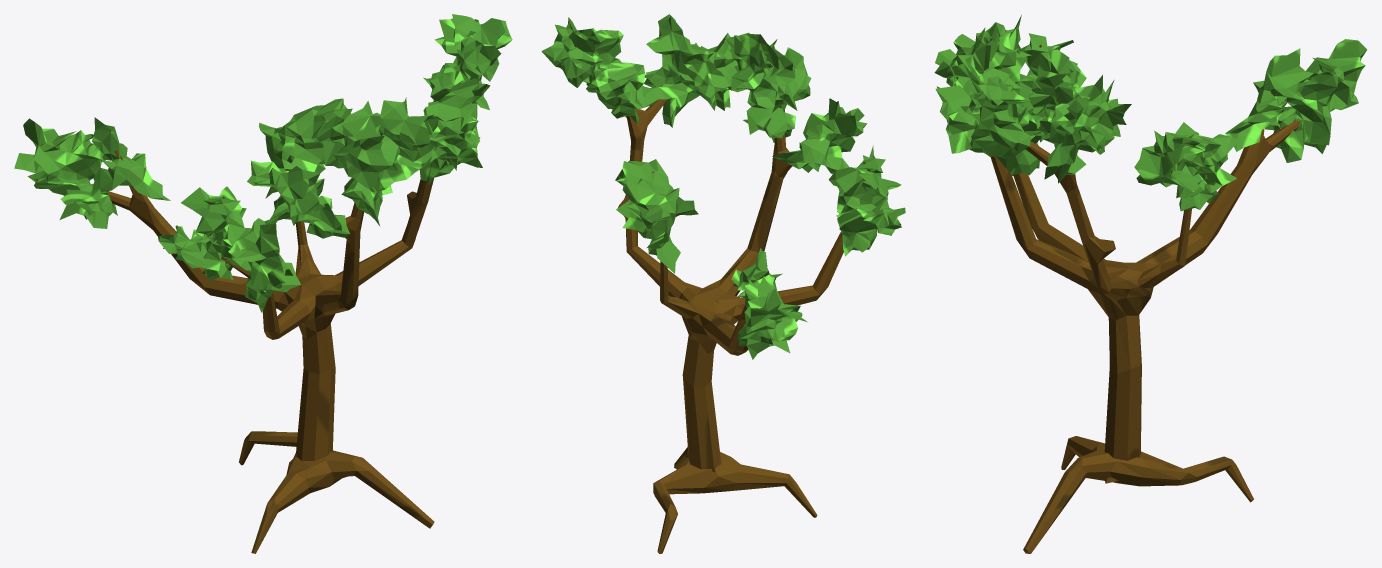
The model's file is arbol2LowRes .fbx.
3 views of the same model, side by side, from view 1: azimuth 30°, elevation 25°; view 2: azimuth 150°, elevation 25°; view 3: azimuth 270°, elevation 25° (orthographic). The views are drawn at different scales.
Visible parts, largest first — view 1: Vert.007; view 2: Vert.007; view 3: Vert.007.
Boxes of the visible parts, x1,y1,x2,y2 form: Vert.007: (14, 14, 512, 553); Vert.007: (541, 14, 905, 553); Vert.007: (934, 15, 1367, 553).
Bounding box in the file's own units: 905 × 1006 × 1176.
